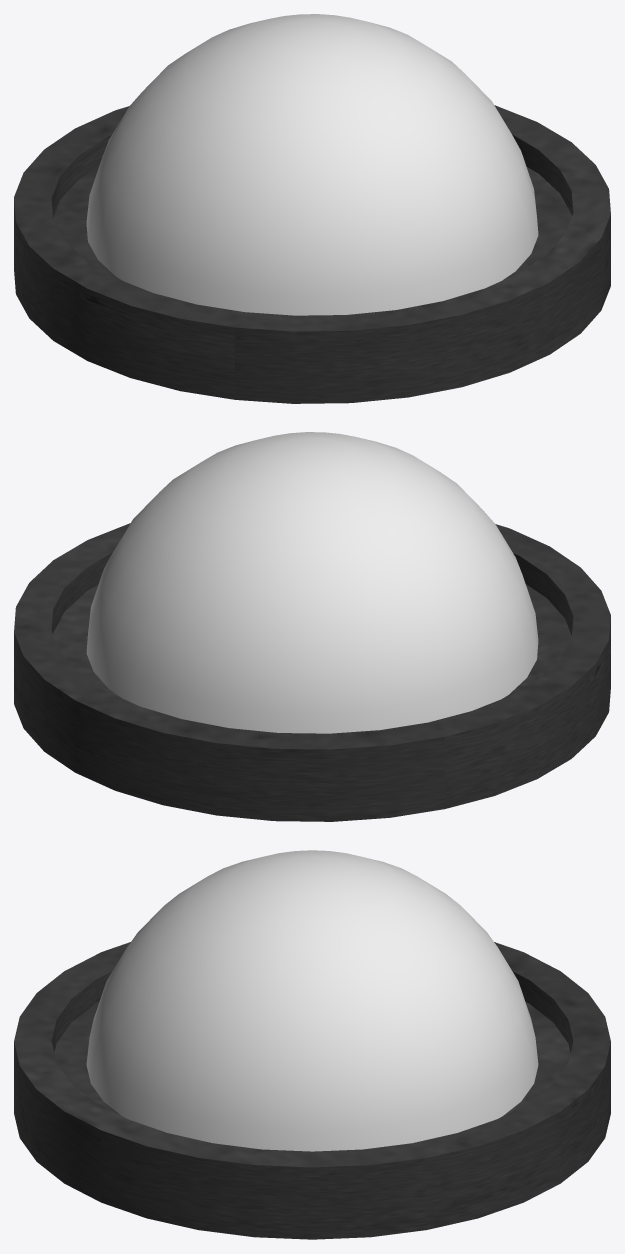
Rendered from LampThing.fbx.
3 views of the same model, one above another, from view 1: azimuth 30°, elevation 25°; view 2: azimuth 150°, elevation 25°; view 3: azimuth 270°, elevation 25° (orthographic).
Parts seen in each view (by area): view 1: Sphere, Cylinder; view 2: Sphere, Cylinder; view 3: Sphere, Cylinder.
Part boxes in pixels (x1,y1,x2,y2): Sphere: (86,14,538,315); Cylinder: (14,105,610,403); Sphere: (86,432,538,733); Cylinder: (14,523,610,821); Sphere: (86,850,538,1151); Cylinder: (14,942,610,1239).
Bounding box in the file's own units: 70 × 31.33 × 70.
